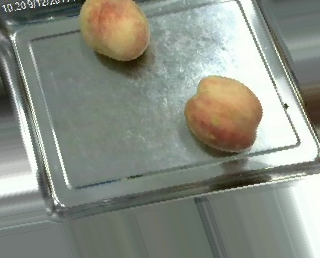Peach: (184, 74, 263, 152), (79, 0, 149, 61)
